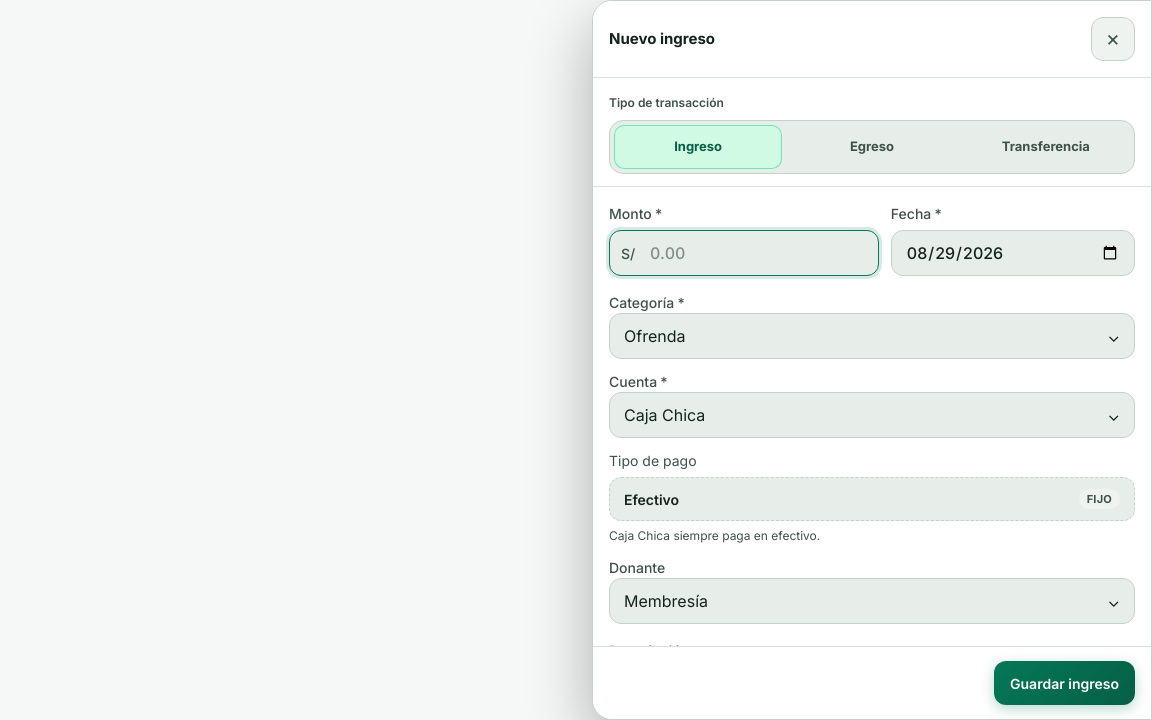
Test: TransactionEditorSheet — defaults e interacción › re-siembra la cuenta por defecto al alternar el tipo de transacción
The image size is (1152, 720).
Click the radio button labelled "Egreso": (872, 146) [850,138,894,154]
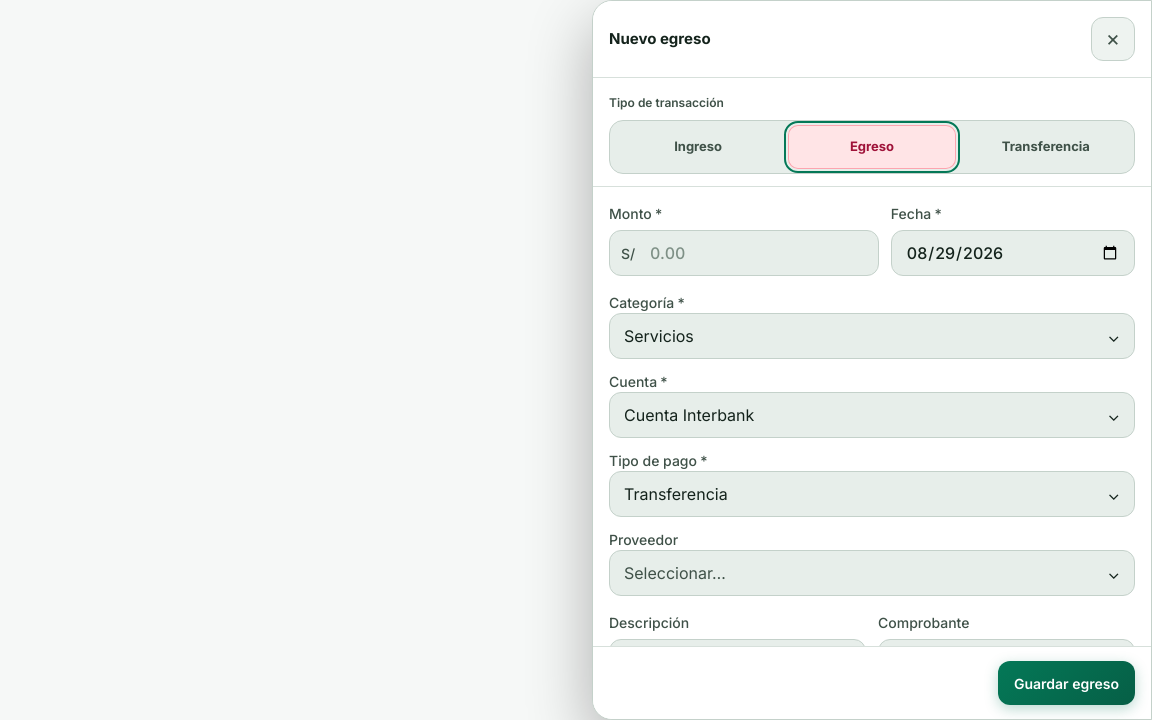
Result: the button "Cuenta Interbank ⌄" is shown at [609,392,1135,438]
Click the radio button labelled "Ingreso": (698, 146) [674,138,722,154]
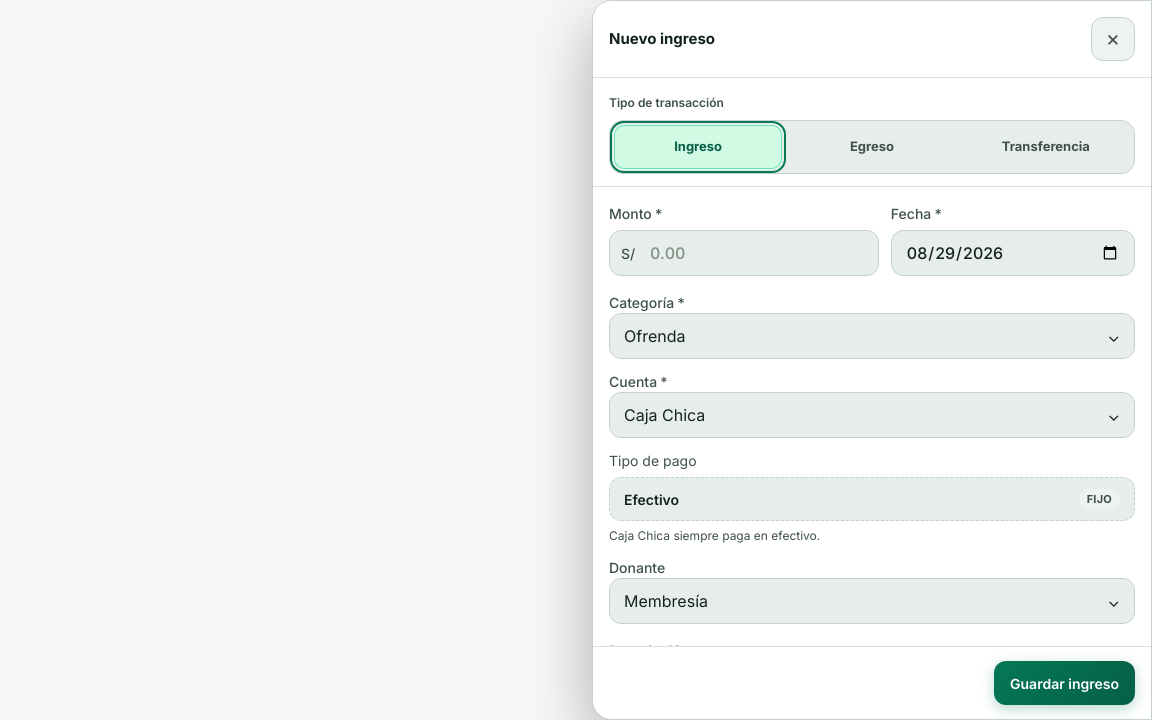
Result: the button named "Cuenta" shows "Caja Chica" at [609,392,1135,438]
